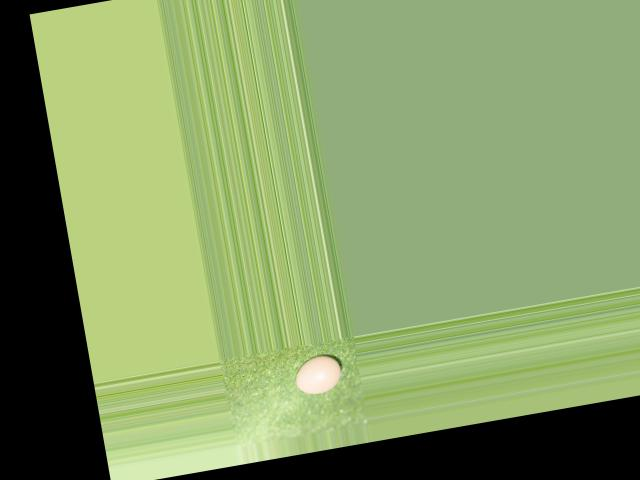egg: (291, 352, 344, 396)
